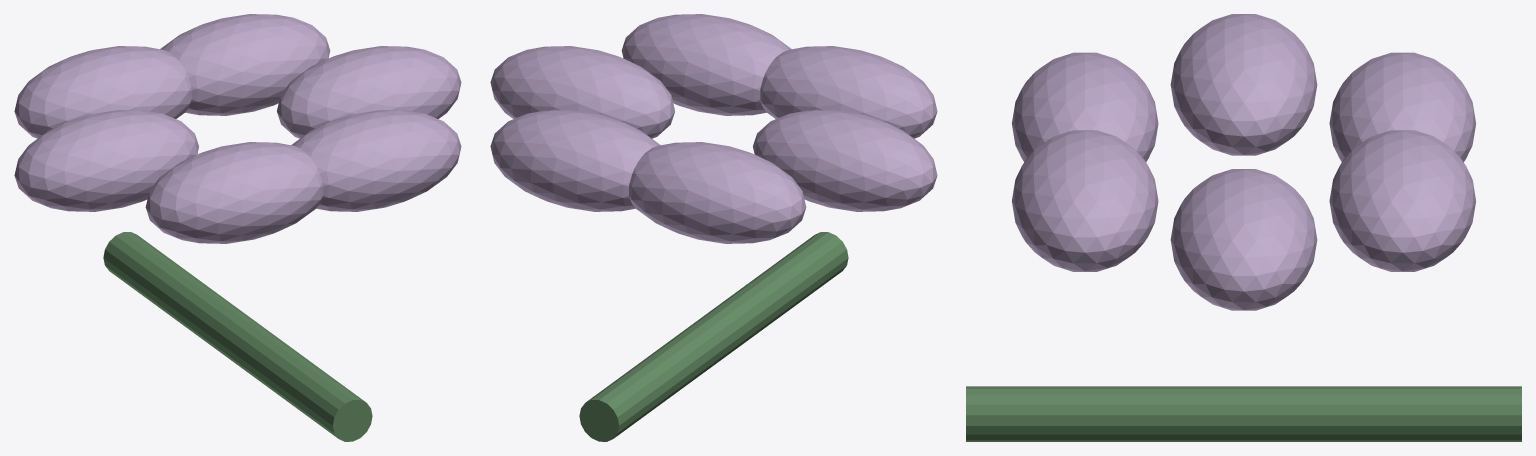
Rendered from flower-purple.glb.
3 renders of one model, left to right at view 1: azimuth 30°, elevation 25°; view 2: azimuth 150°, elevation 25°; view 3: azimuth 270°, elevation 25°, orthographic. The views are drawn at different scales.
Parts seen in each view (by area): view 1: world; view 2: world; view 3: world.
Part boxes in pixels (x1=…): world: x1=14, y1=14, x2=461, y2=441; world: x1=490, y1=14, x2=937, y2=441; world: x1=966, y1=14, x2=1521, y2=441.
Bounding box in the file's own units: 1.1 × 0.649 × 1.
